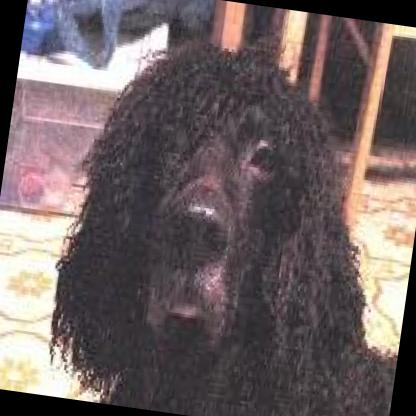Irish_water_spaniel: (33, 3, 416, 416)
